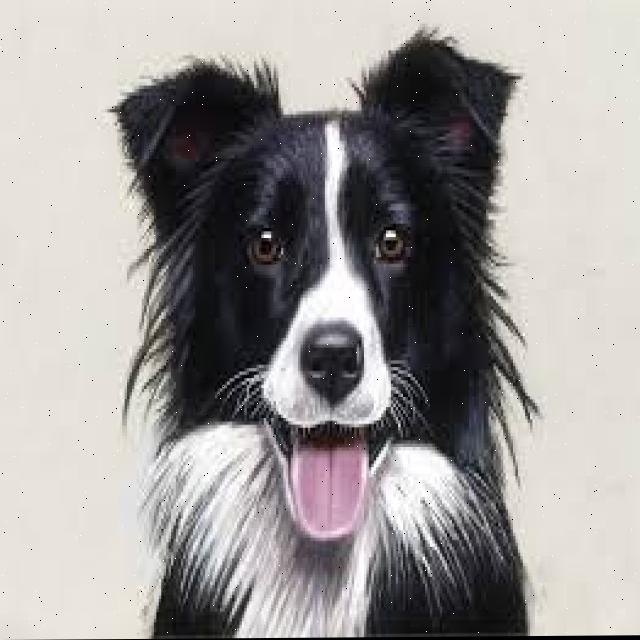ALASKAN_MALAMUTE: (97, 20, 544, 639)
